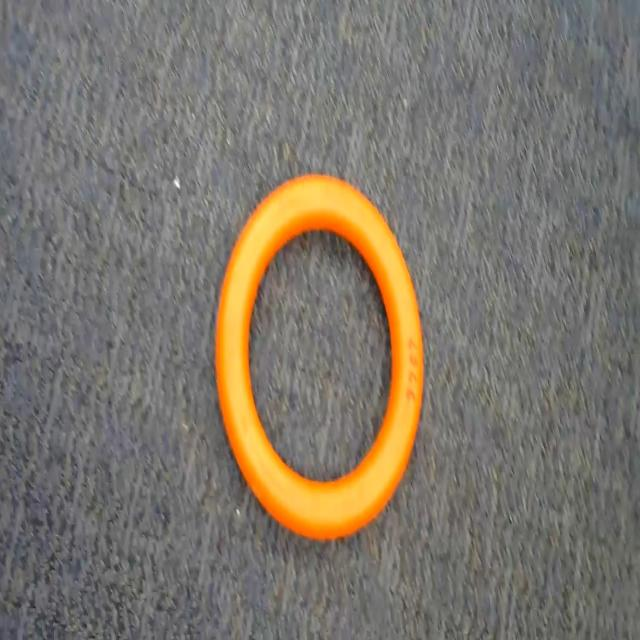note: (197, 158, 438, 565)
